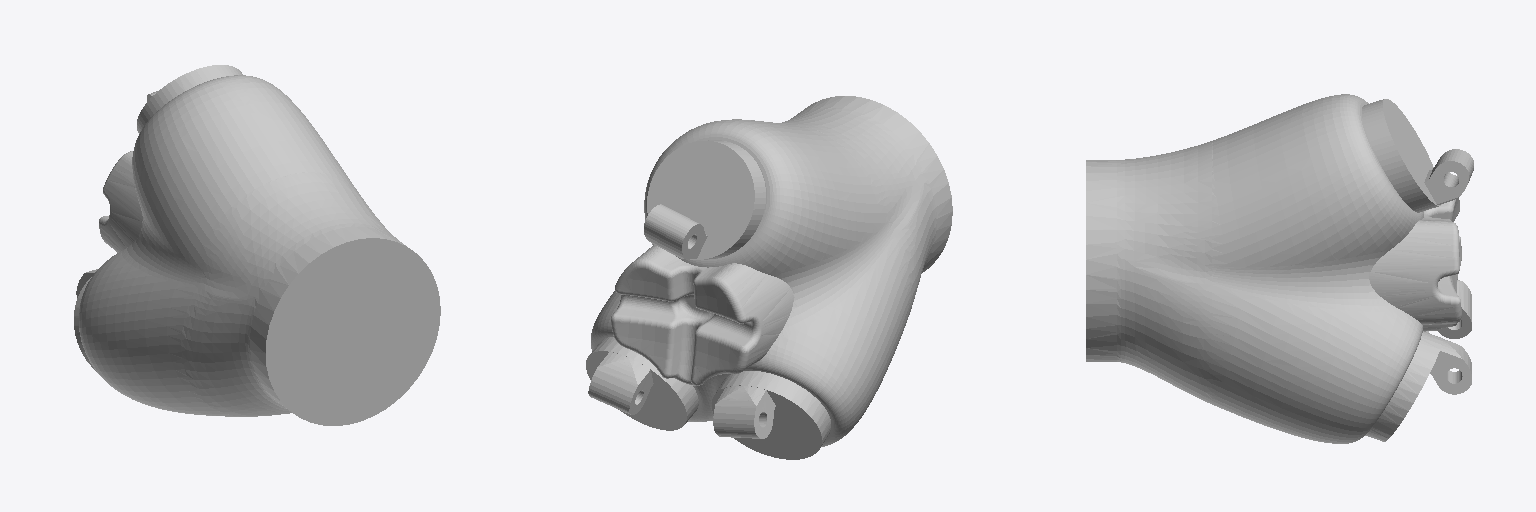
File: processed_hand_3finger.obj
3 views of the same model, side by side, from view 1: azimuth 30°, elevation 25°; view 2: azimuth 150°, elevation 25°; view 3: azimuth 270°, elevation 25° (orthographic).
Visible parts, largest first — view 1: hand_3finger; view 2: hand_3finger; view 3: hand_3finger.
Boxes of the visible parts, x1=… form: hand_3finger: x1=74, y1=65, x2=440, y2=425; hand_3finger: x1=586, y1=96, x2=952, y2=459; hand_3finger: x1=1086, y1=94, x2=1473, y2=443.
Size of the model in its own units: 0.0927 by 0.1051 by 0.121.